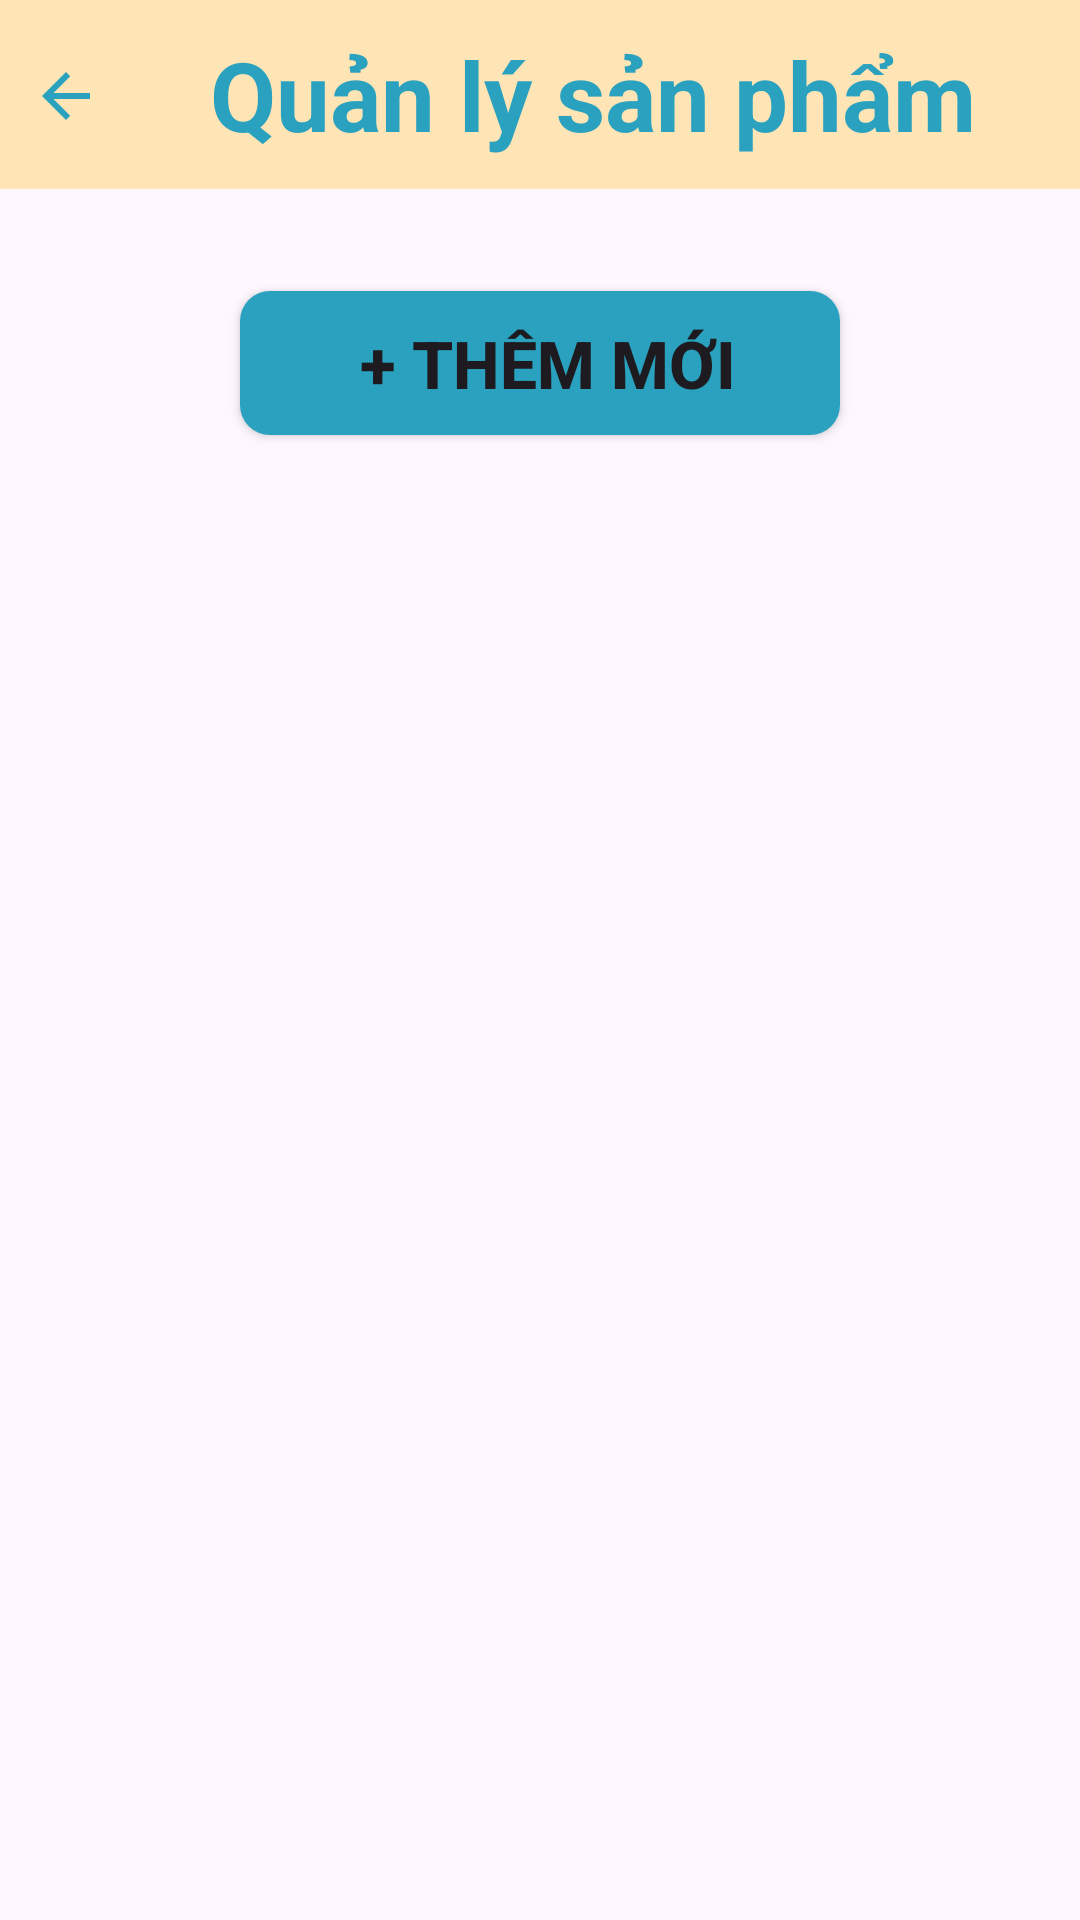

Icon click points for this 1080x1920 phone screenshot, format [x,y]:
Go back: [66,96]
